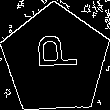P_W: (31, 41, 81, 79)
